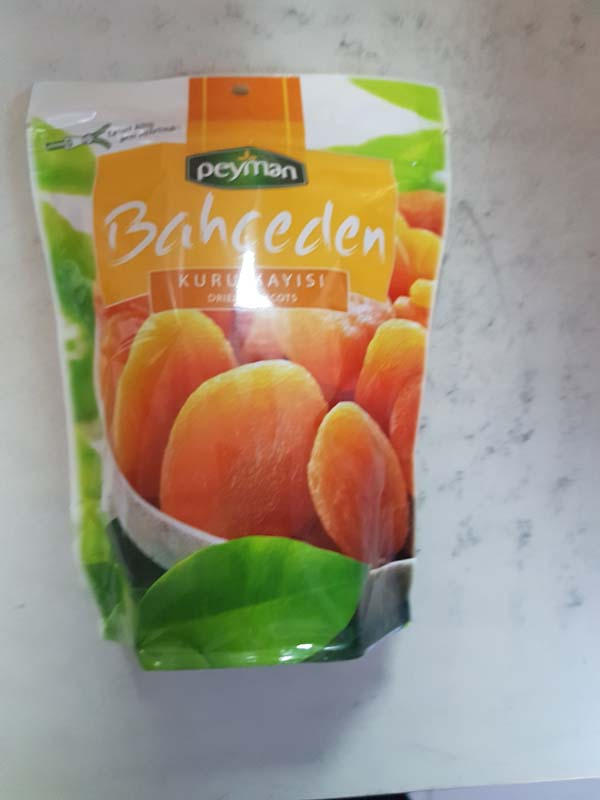bahcedenkurukayisi: (22, 70, 440, 690)
